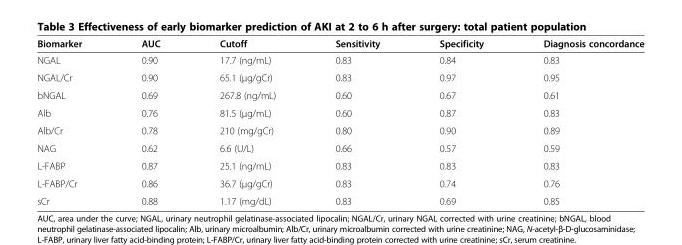table: (36, 37, 643, 206)
table column: (512, 37, 643, 206), (189, 37, 304, 206), (304, 37, 409, 206), (409, 37, 512, 206), (110, 37, 189, 206), (36, 37, 110, 206)
table column header: (36, 37, 643, 51)
table row: (36, 67, 643, 86), (36, 103, 643, 121), (36, 121, 643, 139), (36, 173, 643, 191), (36, 86, 643, 103), (36, 139, 643, 156), (36, 156, 643, 173), (36, 51, 643, 67), (36, 191, 643, 206), (36, 37, 643, 51)
